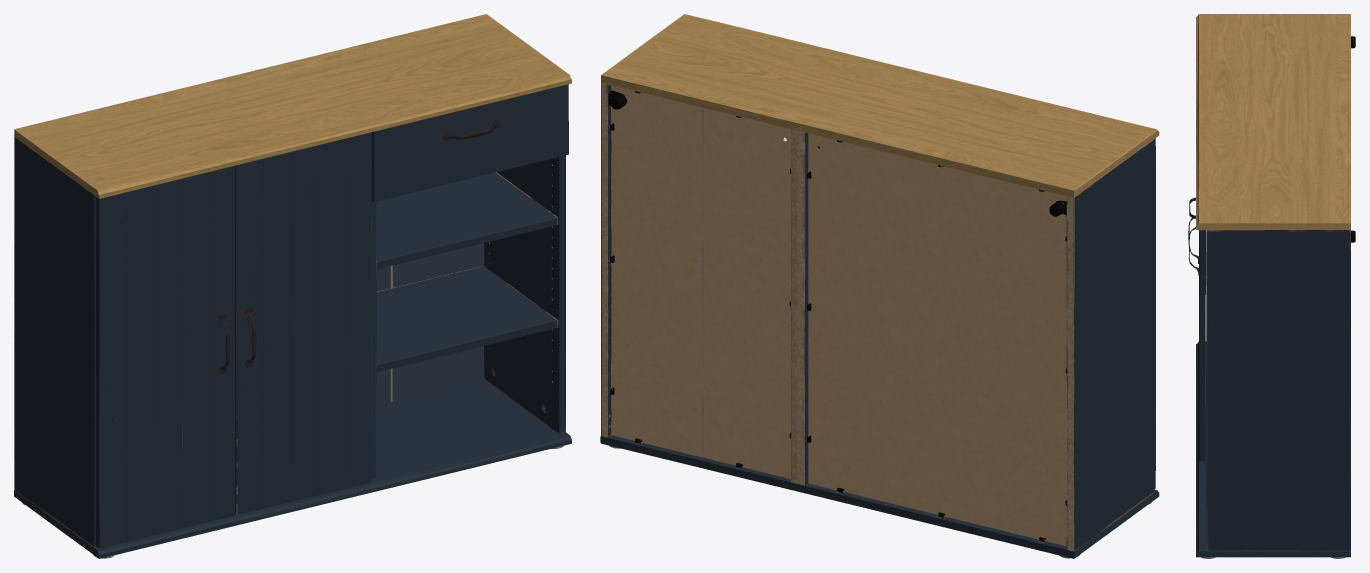
File: SKRUVBY sideboard - black-blue (70568720).glb
The picture shows the model from 3 angles, left to right: view 1: azimuth 30°, elevation 25°; view 2: azimuth 150°, elevation 25°; view 3: azimuth 270°, elevation 25°; orthographic projection. The views are drawn at different scales.
Parts seen in each view (by area): view 1: ASY_ART_70568720_S01_NV01; view 2: ASY_ART_70568720_S01_NV01; view 3: ASY_ART_70568720_S01_NV01.
Part boxes in pixels (bbox=[...]): ASY_ART_70568720_S01_NV01: bbox=[14, 14, 571, 558]; ASY_ART_70568720_S01_NV01: bbox=[600, 14, 1159, 558]; ASY_ART_70568720_S01_NV01: bbox=[1188, 14, 1355, 558].
Bounding box in the file's own units: 1.2 × 0.8994 × 0.4054.
Materials: 1 (1 with a texture image).
